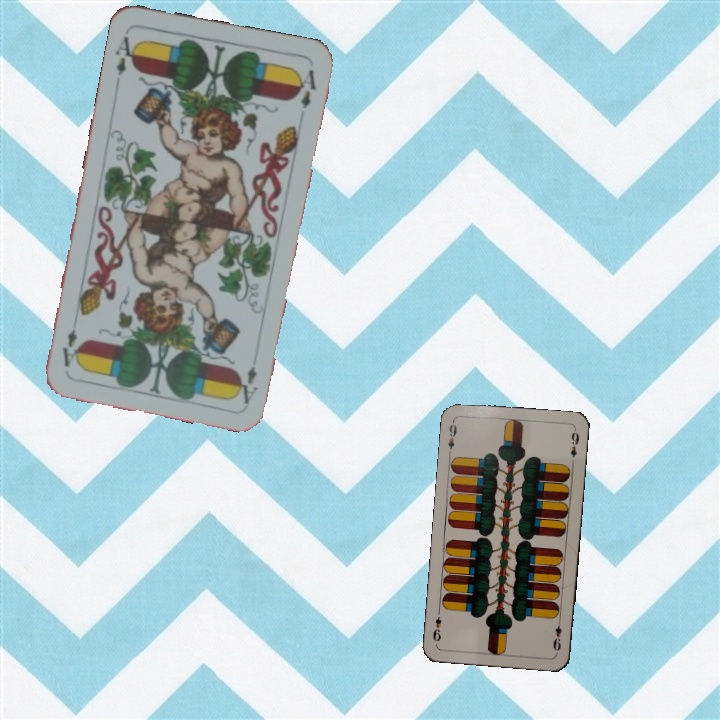E9: (444, 417, 460, 457), (549, 614, 564, 655)
EA: (111, 32, 141, 78), (235, 362, 260, 407)
